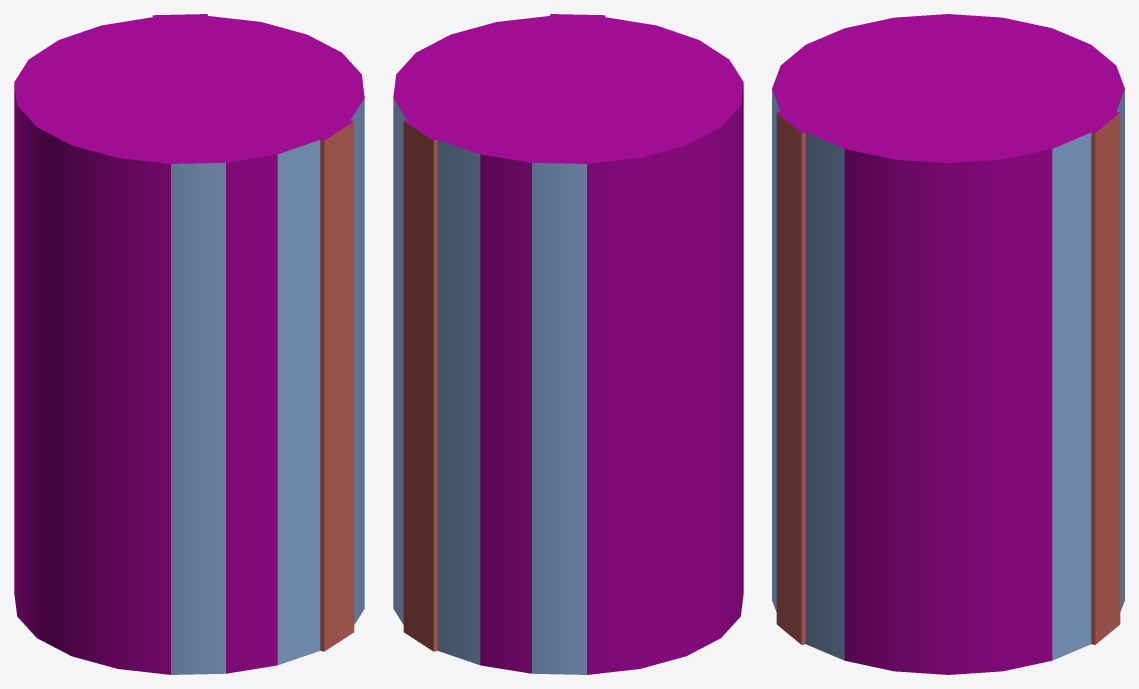
The model's file is br-m-tube-blue.fbx.
3 renders of one model, left to right at view 1: azimuth 30°, elevation 25°; view 2: azimuth 150°, elevation 25°; view 3: azimuth 270°, elevation 25°, orthographic.
Visible parts, largest first — view 1: tube_blue4; view 2: tube_blue4; view 3: tube_blue4.
Boxes of the visible parts, x1,y1,x2,y2 form: tube_blue4: [14, 14, 364, 674]; tube_blue4: [393, 14, 743, 674]; tube_blue4: [772, 14, 1124, 674].
Size of the model in its own units: 0.625 by 1 by 0.625.
